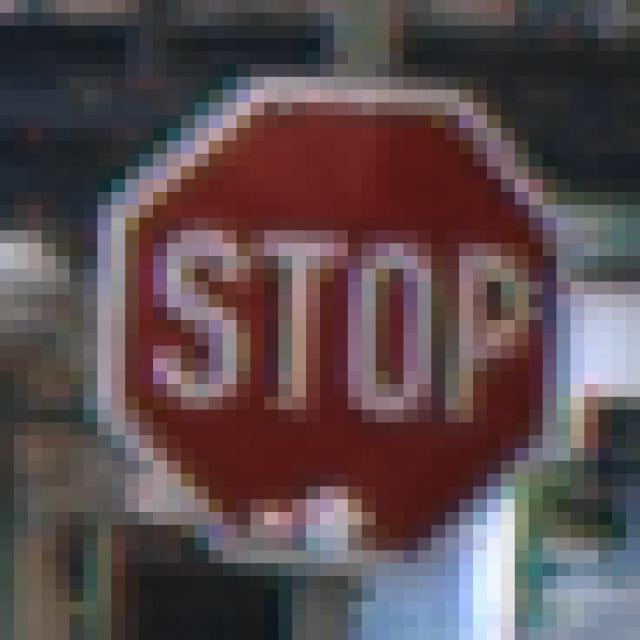STOP: (85, 78, 572, 577)
